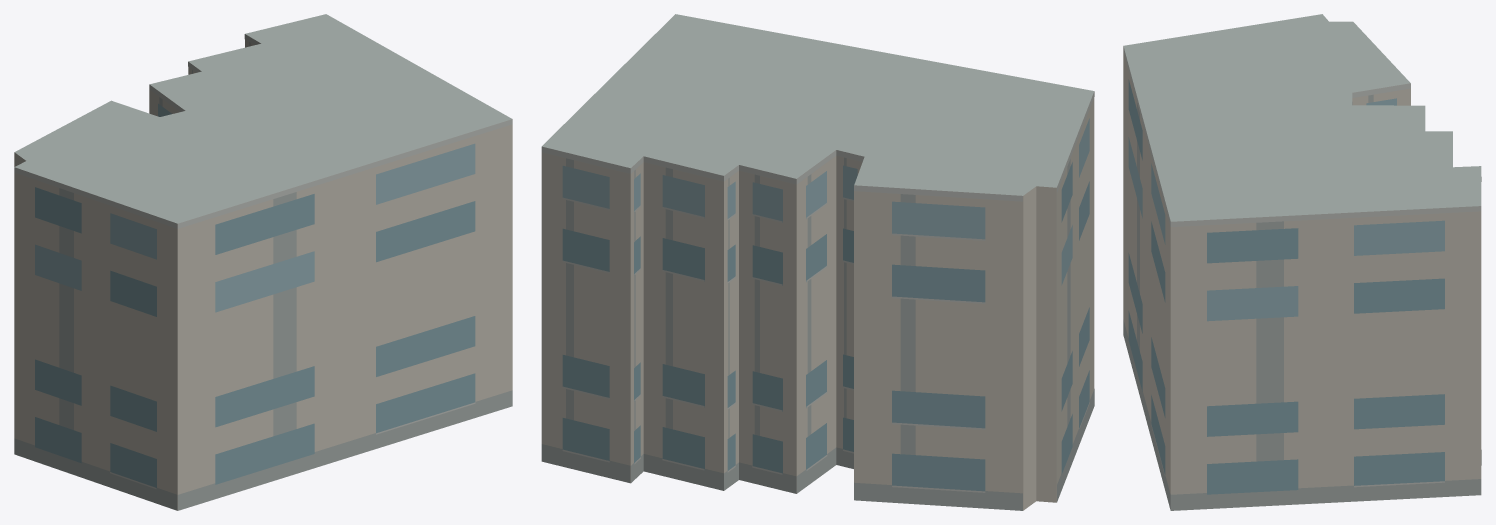
The model's file is survey-upis-32931910.glb.
3 views of the same model, side by side, from view 1: azimuth 30°, elevation 25°; view 2: azimuth 150°, elevation 25°; view 3: azimuth 270°, elevation 25° (orthographic). The views are drawn at different scales.
Visible parts, largest first — view 1: survey-upis-32931910.tmp; view 2: survey-upis-32931910.tmp; view 3: survey-upis-32931910.tmp.
Part boxes in pixels (x1,y1,x2,y2): survey-upis-32931910.tmp: [14, 14, 512, 510]; survey-upis-32931910.tmp: [541, 14, 1094, 510]; survey-upis-32931910.tmp: [1123, 14, 1481, 510].
Size of the model in its own units: 20.36 by 13.2 by 14.83.
